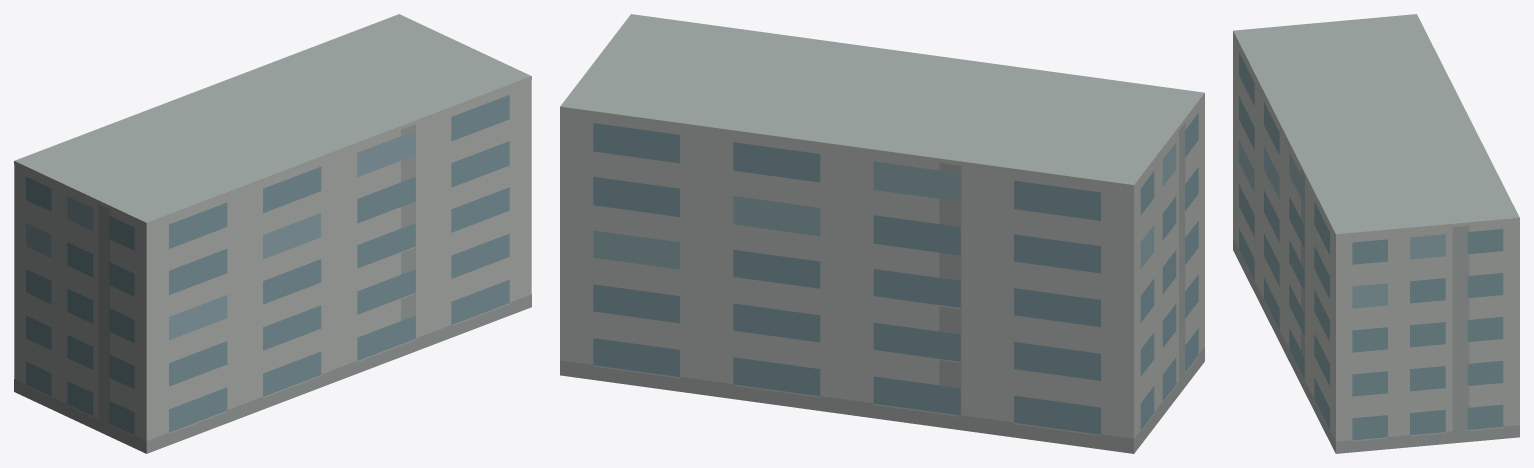
File: residential-865c5e12-a09b-46d2-899d-1628e482e562.glb
3 views of the same model, side by side, from view 1: azimuth 30°, elevation 25°; view 2: azimuth 150°, elevation 25°; view 3: azimuth 270°, elevation 25° (orthographic). The views are drawn at different scales.
Parts seen in each view (by area): view 1: residential-865c5e12-a09b-46d2-899d-1628e482e562.tmp; view 2: residential-865c5e12-a09b-46d2-899d-1628e482e562.tmp; view 3: residential-865c5e12-a09b-46d2-899d-1628e482e562.tmp.
Boxes of the visible parts, <box> form: residential-865c5e12-a09b-46d2-899d-1628e482e562.tmp: <box>14,14,531,453</box>; residential-865c5e12-a09b-46d2-899d-1628e482e562.tmp: <box>560,14,1204,453</box>; residential-865c5e12-a09b-46d2-899d-1628e482e562.tmp: <box>1233,14,1519,453</box>.
Bounding box in the file's own units: 32.82 × 15.25 × 18.06.
